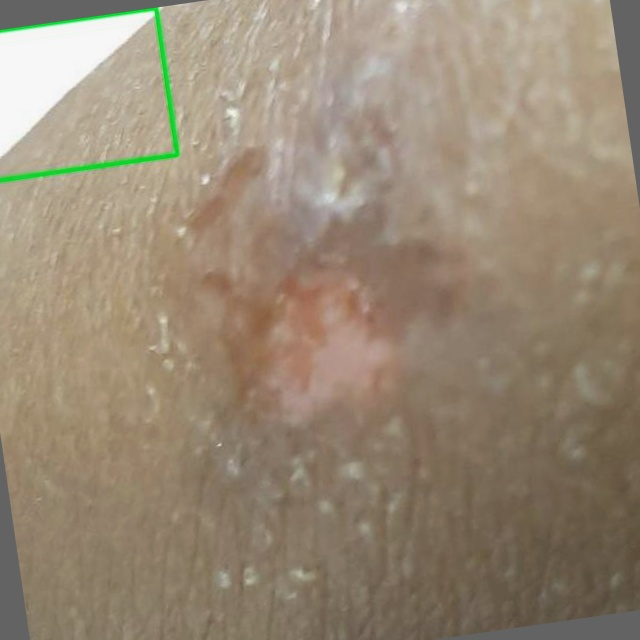Eczema: (0, 7, 178, 181)
